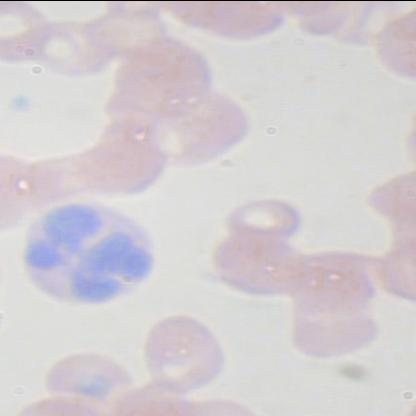Platelets: (9, 92, 38, 113)
RBC: (132, 86, 258, 176), (140, 310, 228, 396), (210, 233, 312, 304), (85, 128, 167, 200), (297, 244, 384, 310), (47, 348, 135, 398), (223, 190, 306, 242), (294, 312, 385, 358), (82, 13, 172, 59), (1, 1, 56, 66)
WBC: (18, 189, 160, 322)
